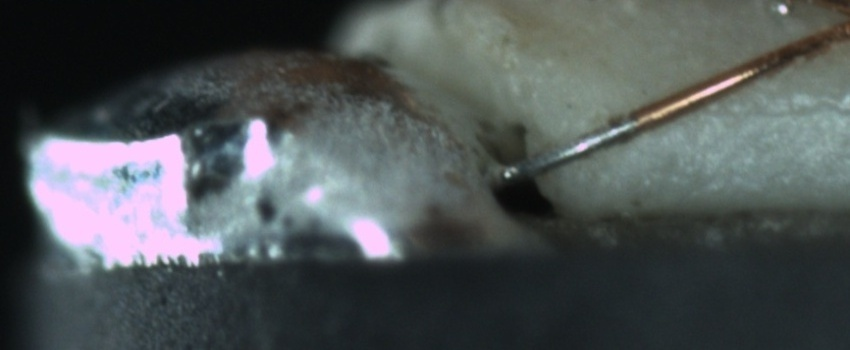DL: (694, 79, 849, 144)
TS: (497, 115, 636, 183)
